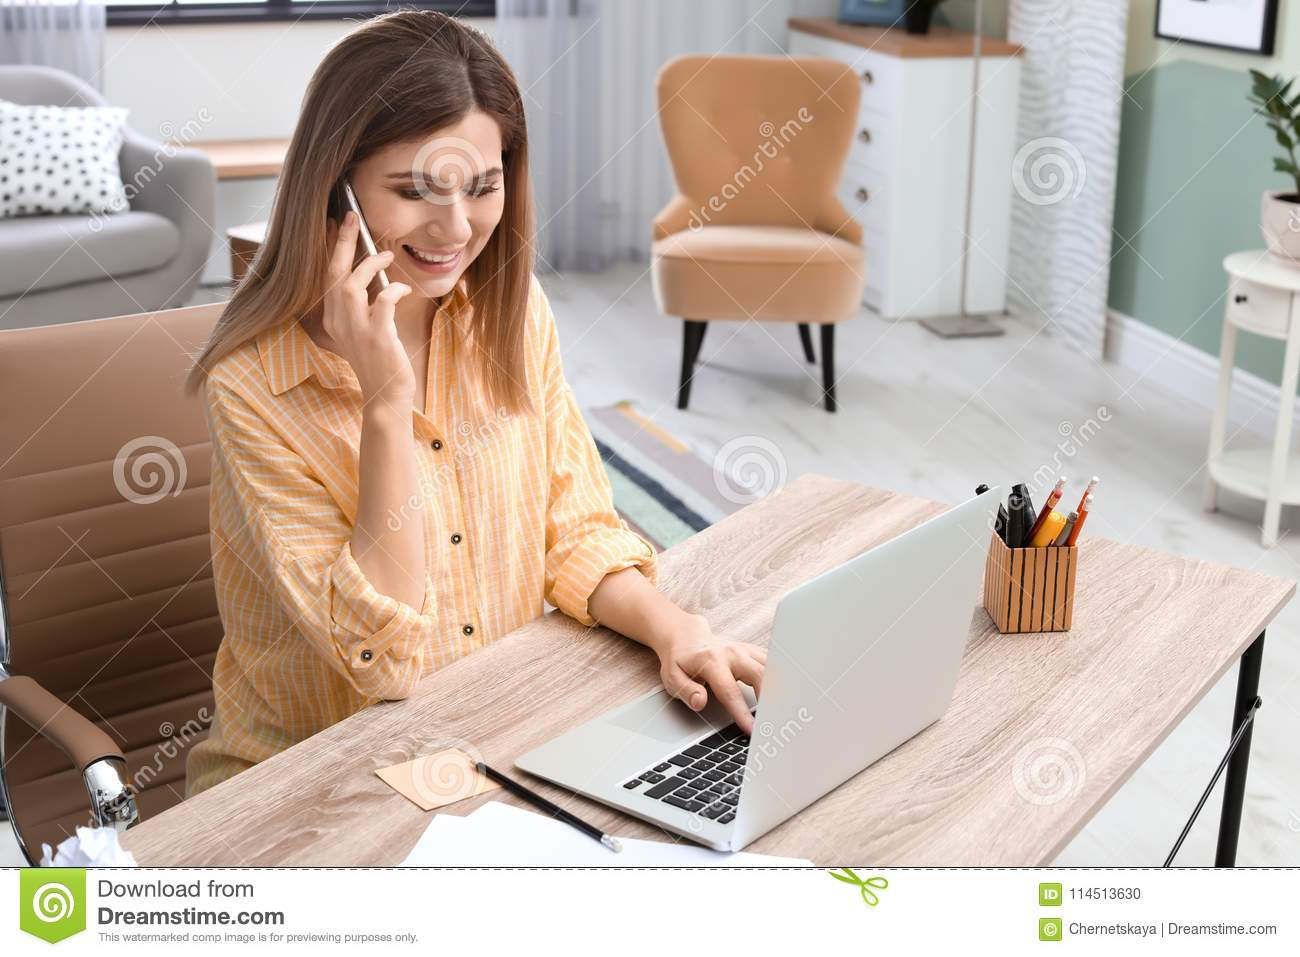phone: (329, 175, 399, 318)
talk: (323, 163, 505, 408)
